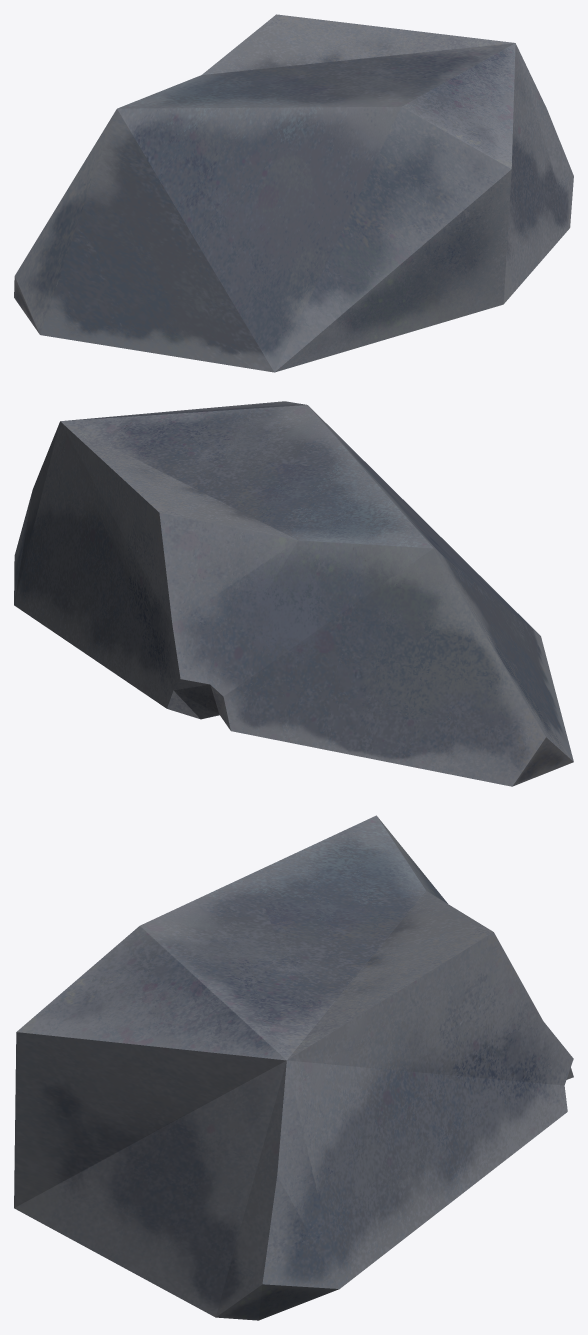
The model's file is stylized_rock_02.fbx.
3 views of the same model, one above another, from view 1: azimuth 30°, elevation 25°; view 2: azimuth 150°, elevation 25°; view 3: azimuth 270°, elevation 25° (orthographic). The views are drawn at different scales.
Parts seen in each view (by area): view 1: stylized_rock_02; view 2: stylized_rock_02; view 3: stylized_rock_02.
Part boxes in pixels (x1,y1,x2,y2): stylized_rock_02: (14,14,573,372); stylized_rock_02: (14,401,573,786); stylized_rock_02: (14,815,573,1320).
Size of the model in its own units: 67.37 by 27.66 by 45.98.
